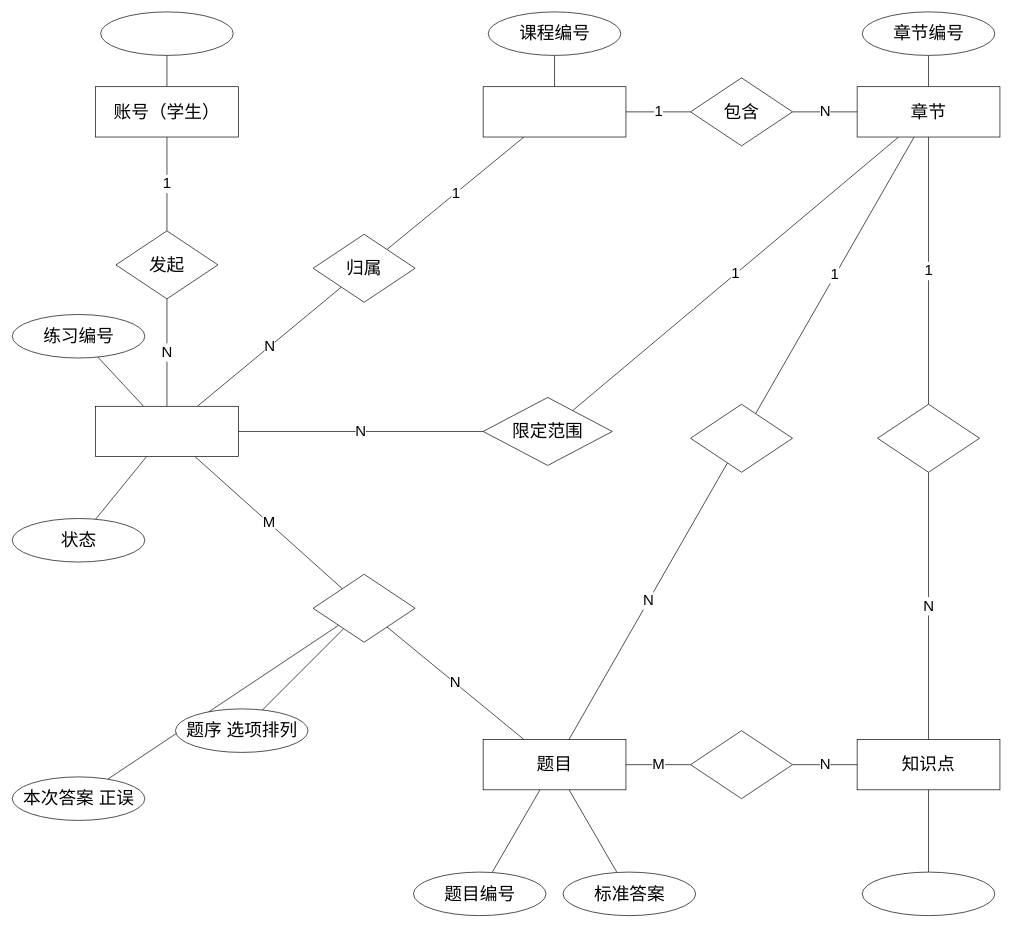
This 1012x928 diagram has some shape labels left out. Here are the shapes that lost their labels. From the top down, the centre of each, then its label:
(166,33): 账号编号
(554,111): 课程
(166,431): 练习
(741,438): 收录
(928,438): 划分
(363,608): 作答
(741,764): 涉及
(928,893): 知识点编号
